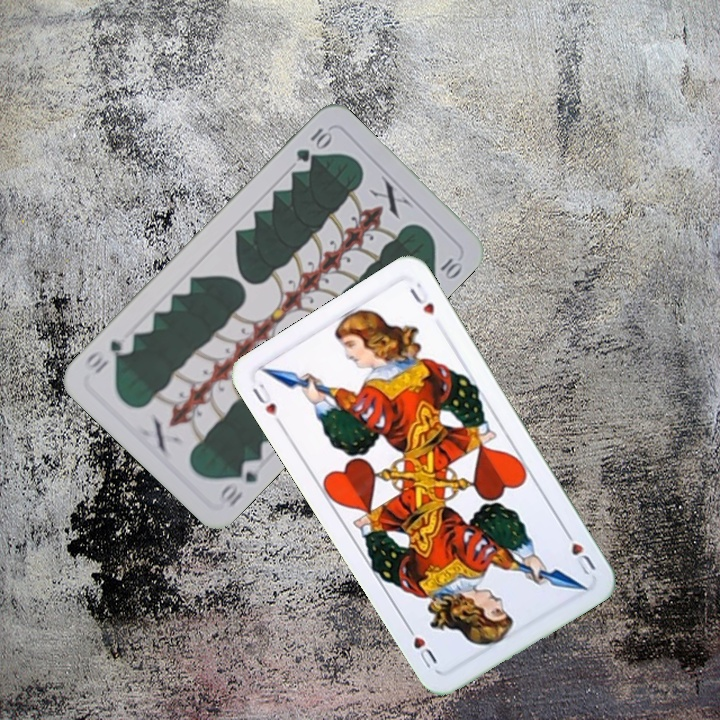G10: (216, 455, 262, 511), (291, 123, 335, 165)
HU: (559, 524, 598, 580), (248, 379, 280, 419)
